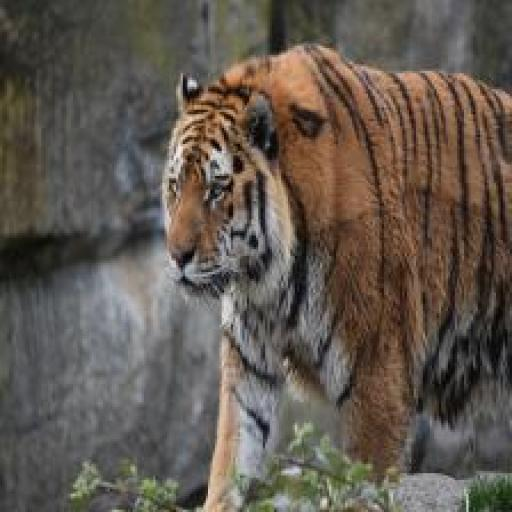Tiger: (157, 45, 512, 512)
